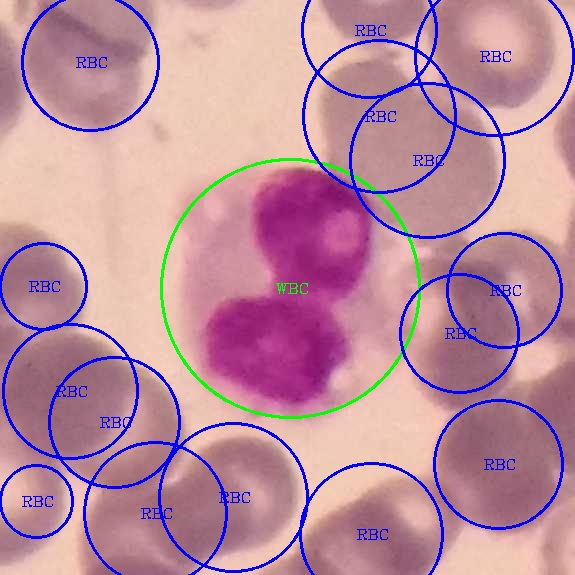RBC: (318, 55, 502, 249), (375, 237, 510, 411), (52, 356, 189, 503), (1, 326, 131, 463), (432, 406, 558, 538), (429, 1, 561, 115), (15, 22, 148, 133), (187, 428, 297, 549), (466, 228, 573, 341), (71, 483, 199, 574), (1, 222, 92, 345), (358, 470, 464, 563), (145, 470, 249, 562), (301, 498, 424, 574)
WBC: (176, 150, 409, 436)
